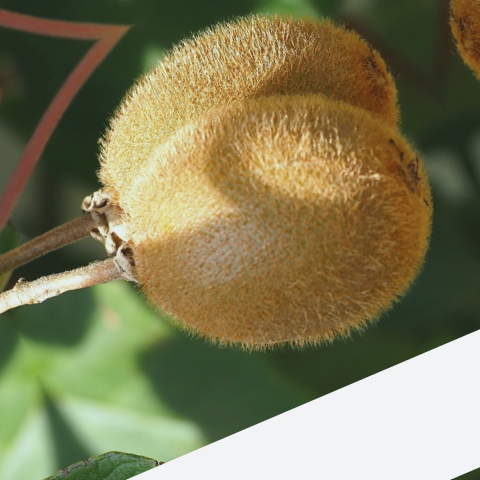kiwi: (67, 33, 480, 413)
